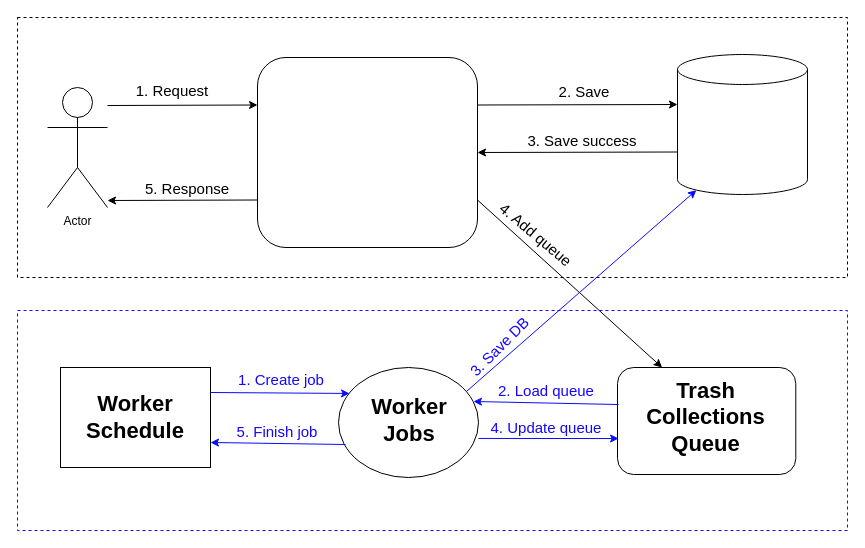
This 865x548 diagram has some shape labels left out. Here are the shapes that lost their labels. From the top down, the box of each, then its label:
(676, 54, 808, 194): Database
(256, 56, 478, 248): Web API
